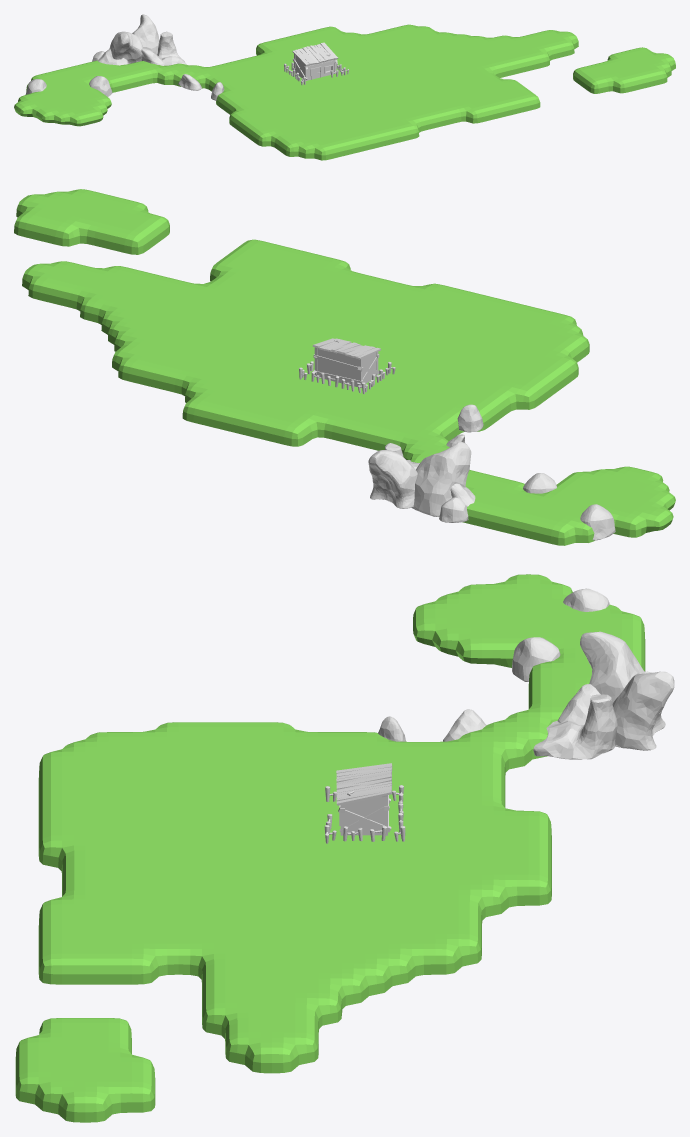
File: map (3).fbx
3 renders of one model, top to bottom at view 1: azimuth 30°, elevation 25°; view 2: azimuth 150°, elevation 25°; view 3: azimuth 270°, elevation 25°, orthographic. The views are drawn at different scales.
Parts seen in each view (by area): view 1: Plane, Cube.025, Cube.002, Cube.001, Cube.005, Cube.008, Cube.010, Cube.003, Cube.004; view 2: Plane, Cube.002, Cube.025, Cube.001, Cube.007, Cube.006, Cube.009; view 3: Plane, Cube.001, Cube.025, Cube.005, Cube.002, Cube.008, Cube.004, Cube.007.
Part boxes in pixels (x1,y1,x2,y2): Plane: [14, 24, 675, 160]; Cube.025: [292, 42, 338, 80]; Cube.002: [109, 31, 142, 63]; Cube.001: [132, 14, 159, 54]; Cube.005: [157, 31, 186, 65]; Cube.008: [89, 76, 112, 96]; Cube.010: [178, 74, 201, 90]; Cube.003: [98, 48, 128, 65]; Cube.004: [141, 48, 163, 65]; Plane: [14, 189, 675, 545]; Cube.002: [411, 442, 471, 516]; Cube.025: [312, 338, 380, 386]; Cube.001: [368, 450, 417, 508]; Cube.007: [580, 504, 615, 540]; Cube.006: [439, 497, 468, 522]; Cube.009: [457, 404, 483, 432]; Plane: [15, 574, 645, 1122]; Cube.001: [612, 671, 674, 750]; Cube.025: [336, 763, 392, 835]; Cube.005: [533, 694, 617, 759]; Cube.002: [580, 631, 645, 703]; Cube.008: [511, 637, 560, 681]; Cube.004: [557, 684, 600, 725]; Cube.007: [563, 588, 609, 611].
Bounding box in the file's own units: 5396 × 390 × 2826.
